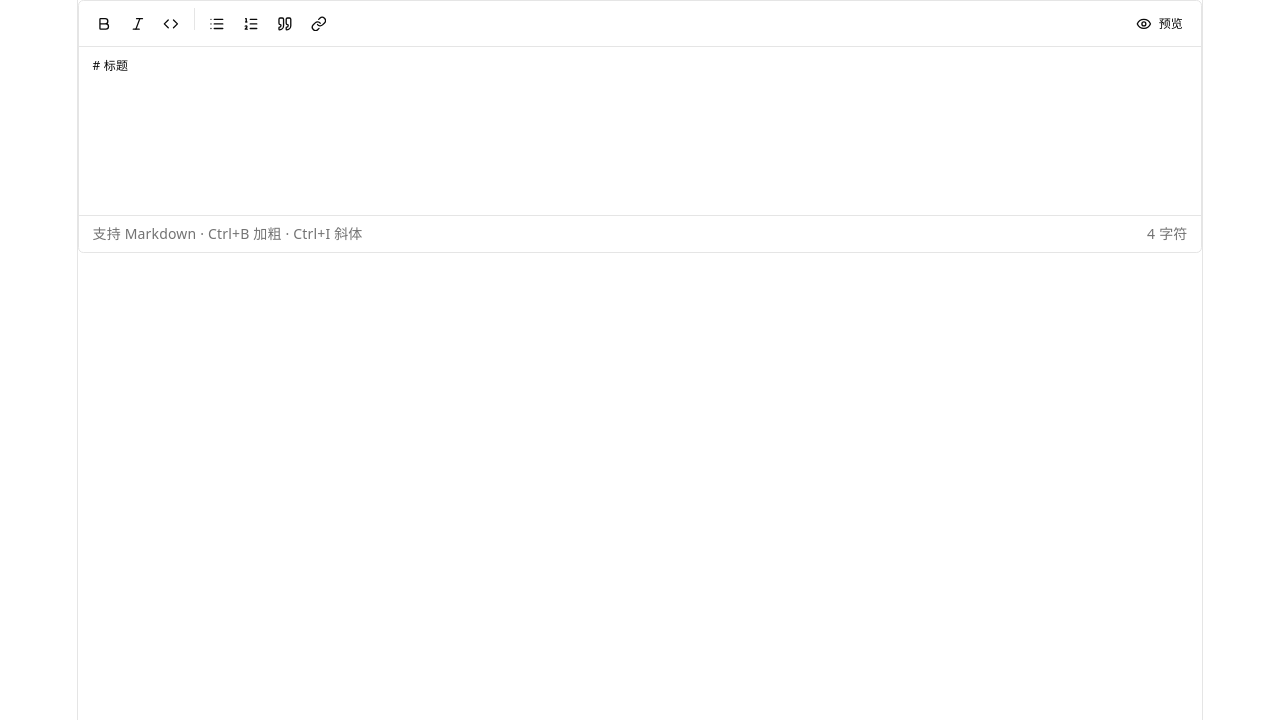
Test case: RichTextEditor › switches to preview mode on toggle click
Click the button "预览" at (1160,24), box top-left (1127, 10), bottom-right (1192, 37)
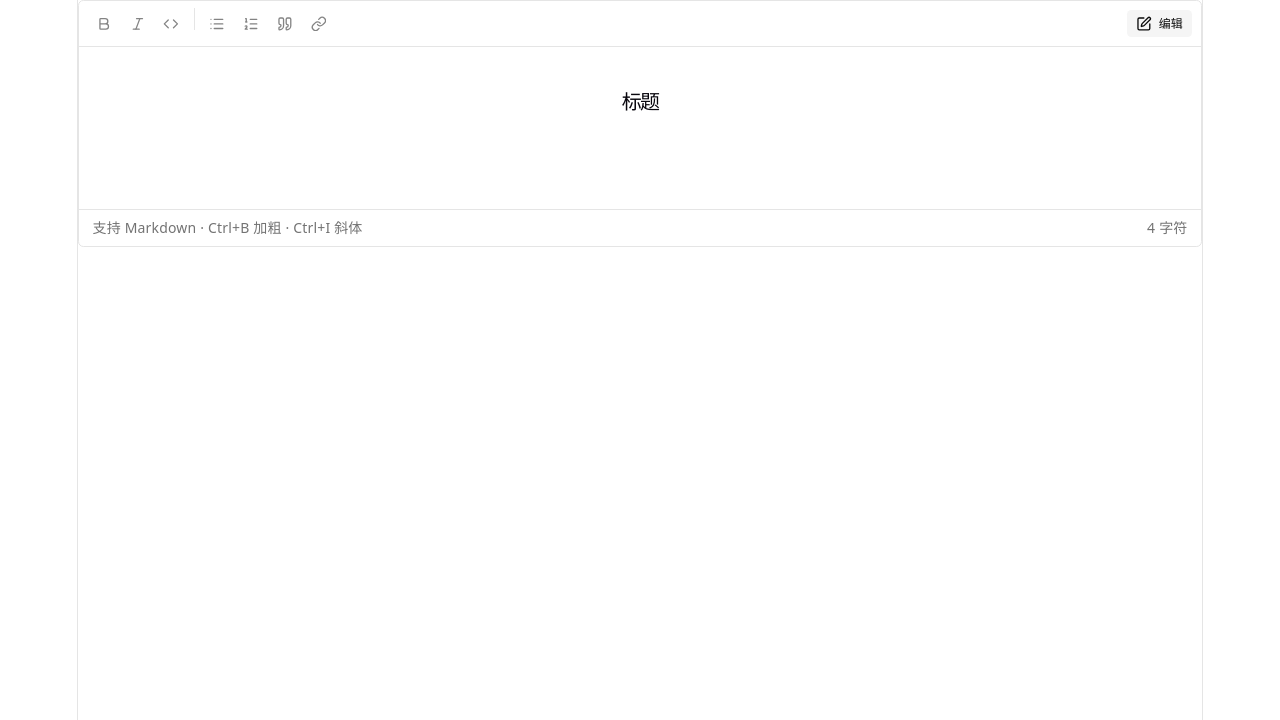
Check: the element named "预览区域" is shown, box top-left (622, 88), bottom-right (658, 115)
